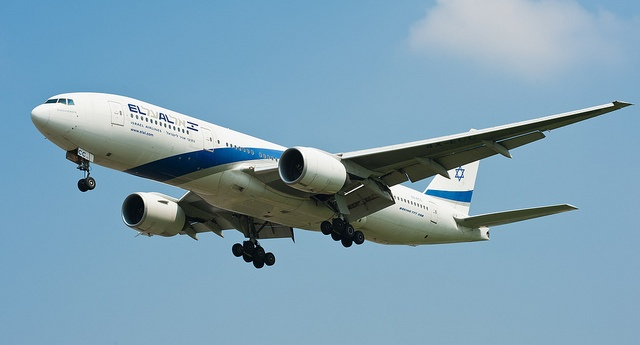Airplane: (17, 56, 633, 304)
